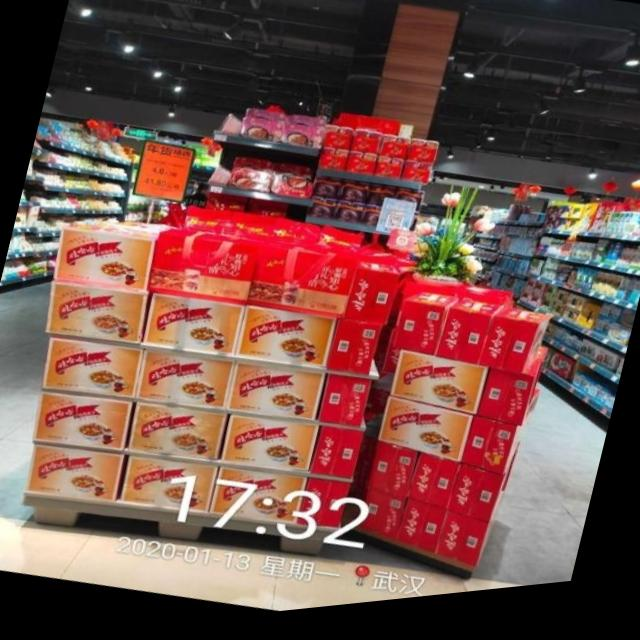box: (246, 247, 358, 325), (148, 231, 258, 309), (53, 225, 158, 295), (44, 280, 148, 347), (389, 357, 488, 425), (140, 296, 245, 360), (377, 405, 474, 472), (42, 338, 144, 401), (234, 311, 336, 373), (135, 353, 235, 415), (31, 392, 133, 452), (128, 405, 227, 464), (220, 420, 320, 478), (25, 445, 125, 503), (226, 368, 325, 426), (207, 472, 306, 530), (119, 458, 218, 516), (479, 318, 551, 385), (437, 310, 504, 374), (477, 371, 541, 438), (393, 301, 459, 364), (460, 424, 523, 485), (342, 268, 399, 332), (446, 473, 506, 532), (326, 325, 382, 382), (405, 461, 461, 518), (435, 520, 490, 578), (367, 448, 419, 507), (317, 381, 372, 434), (394, 507, 446, 563), (309, 433, 363, 485), (297, 484, 351, 533), (359, 495, 406, 546), (364, 382, 393, 437), (337, 120, 400, 144), (96, 223, 171, 237), (546, 363, 575, 393), (381, 338, 400, 382), (357, 434, 378, 471), (350, 469, 371, 504), (526, 400, 538, 428), (537, 358, 548, 371)
